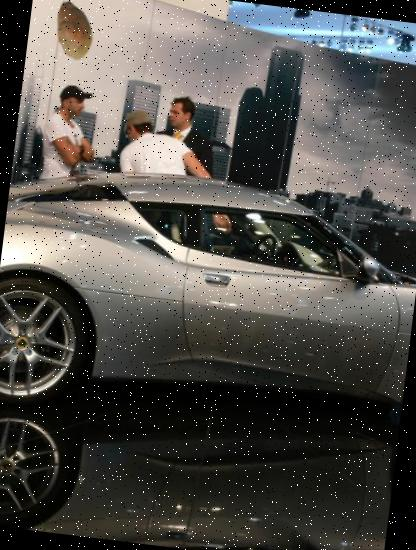Potato: (38, 0, 107, 65)
